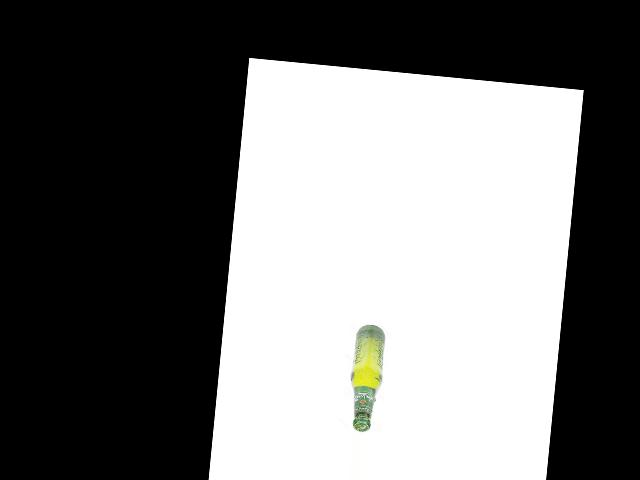beer: (345, 323, 387, 433)
